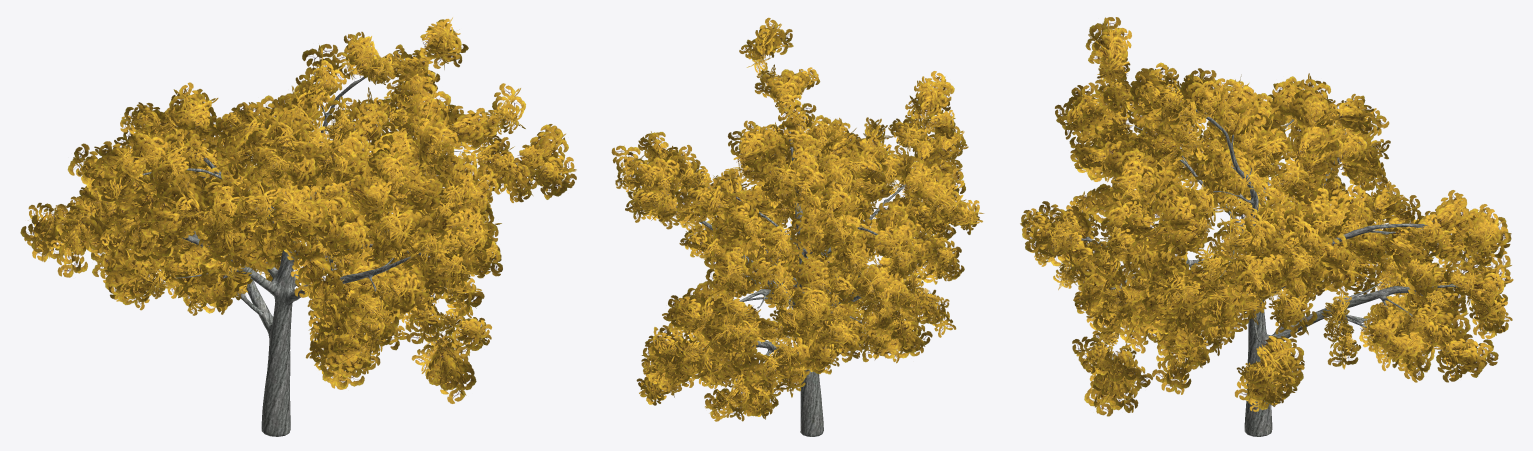
Rendered from ginkgo.glb.
3 views of the same model, side by side, from view 1: azimuth 30°, elevation 25°; view 2: azimuth 150°, elevation 25°; view 3: azimuth 270°, elevation 25° (orthographic). The views are drawn at different scales.
Visible parts, largest first — view 1: Leaves Yellow_GinkgoLeavesYellow_0, TreeAutumn_GinkgoTreeBark_0; view 2: Leaves Yellow_GinkgoLeavesYellow_0, TreeAutumn_GinkgoTreeBark_0; view 3: Leaves Yellow_GinkgoLeavesYellow_0, TreeAutumn_GinkgoTreeBark_0.
Boxes of the visible parts, x1,y1,x2,y2 form: Leaves Yellow_GinkgoLeavesYellow_0: [20, 17, 576, 403]; TreeAutumn_GinkgoTreeBark_0: [142, 75, 471, 436]; Leaves Yellow_GinkgoLeavesYellow_0: [611, 17, 984, 421]; TreeAutumn_GinkgoTreeBark_0: [676, 115, 905, 436]; Leaves Yellow_GinkgoLeavesYellow_0: [1020, 17, 1513, 416]; TreeAutumn_GinkgoTreeBark_0: [1078, 109, 1460, 436].
Bounding box in the file's own units: 46.11 × 42 × 46.13.
Materials: 2 (2 with a texture image).
